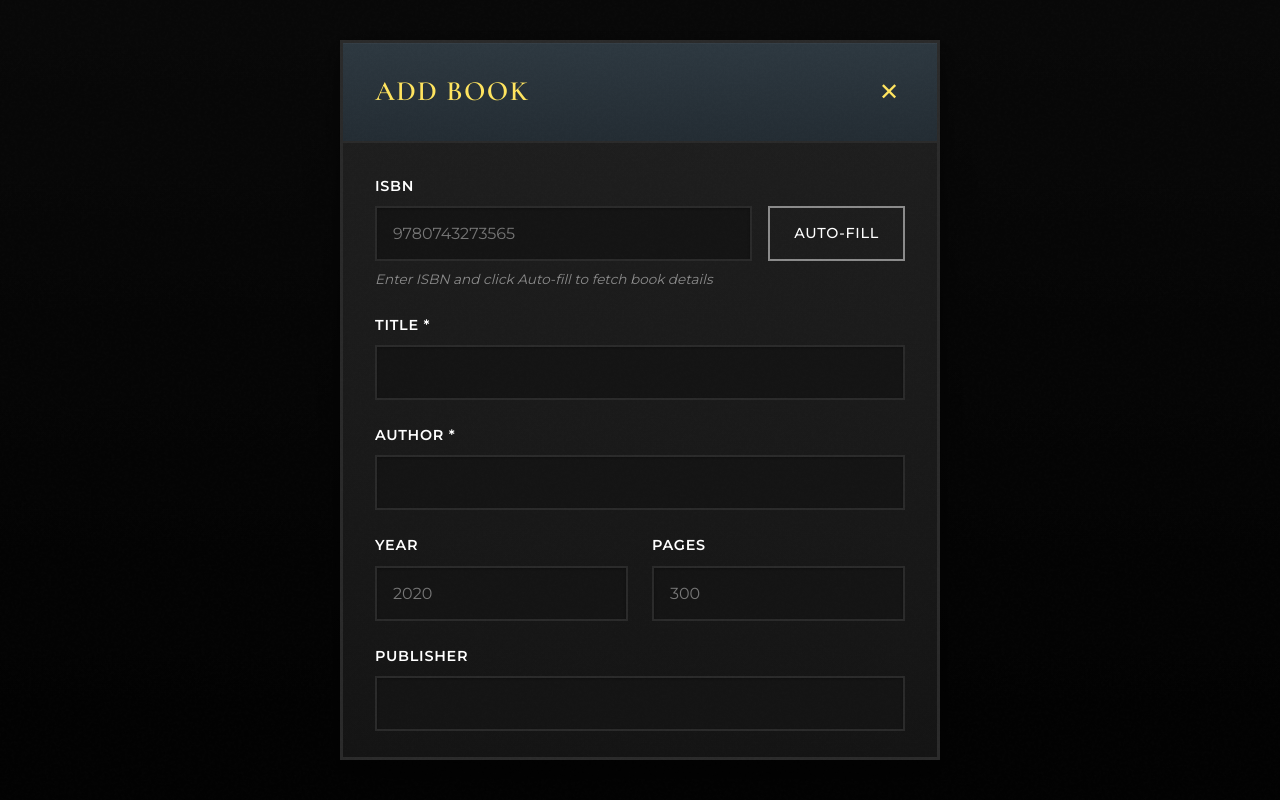
Scenario: BookFormModal › add mode › fills the form from backend ISBN lookup
This screenshot has width=1280, height=800.
Type "9780441172719" into the field labelled "ISBN".
click(564, 233); type("9780441172719")  # box [375,206,752,261]
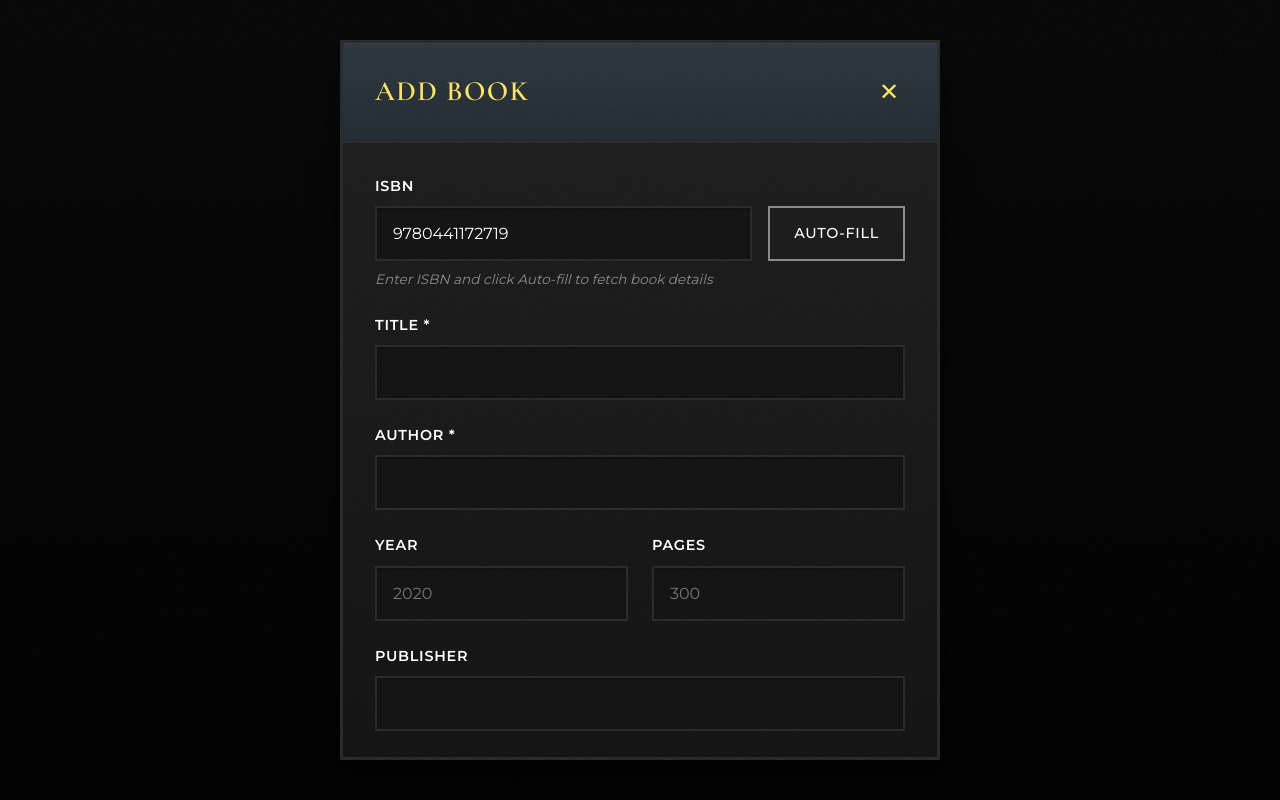
Click the button "Auto-fill".
click(837, 233)  # box [768,206,905,261]
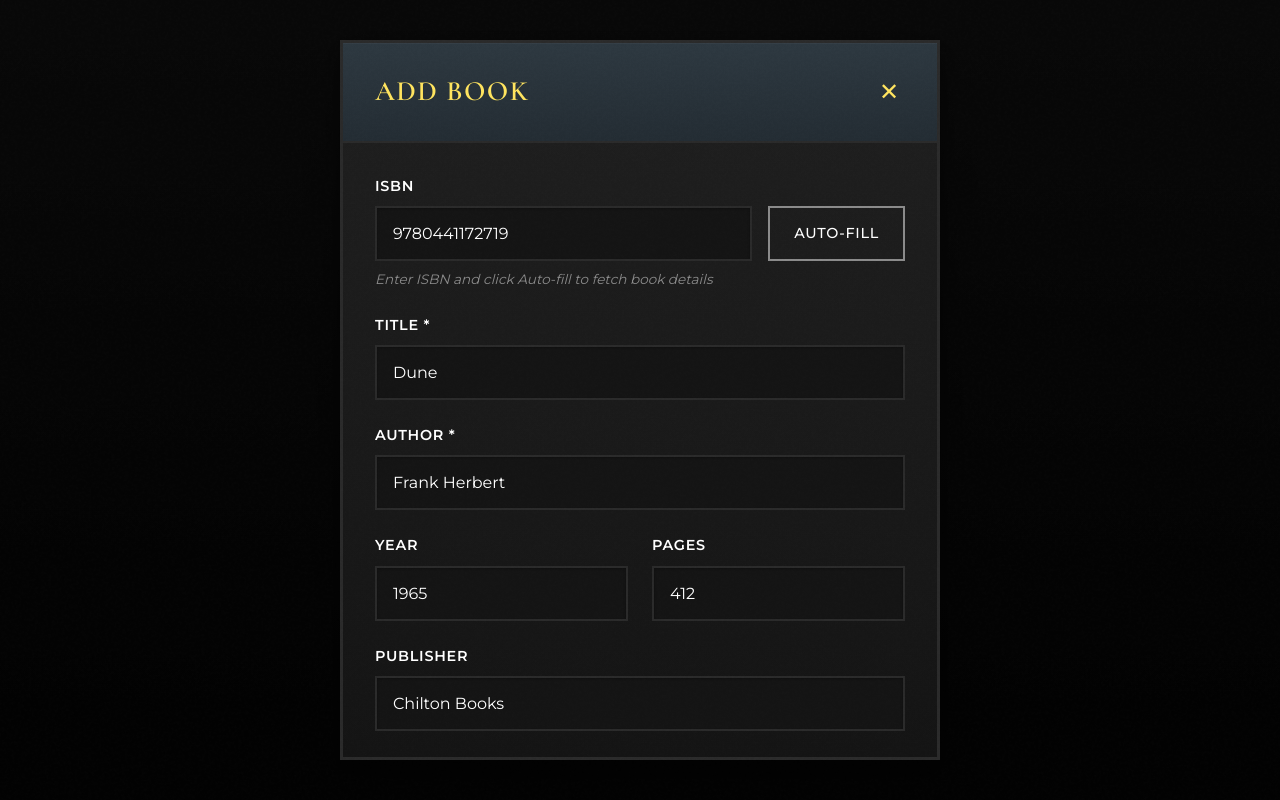
Check: the field showing "Dune" is shown, box [375,345,905,400]
Check: the field showing "Frank Herbert" is shown, box [375,456,905,510]
Check: the number field showing "1965" is shown, box [375,566,628,620]
